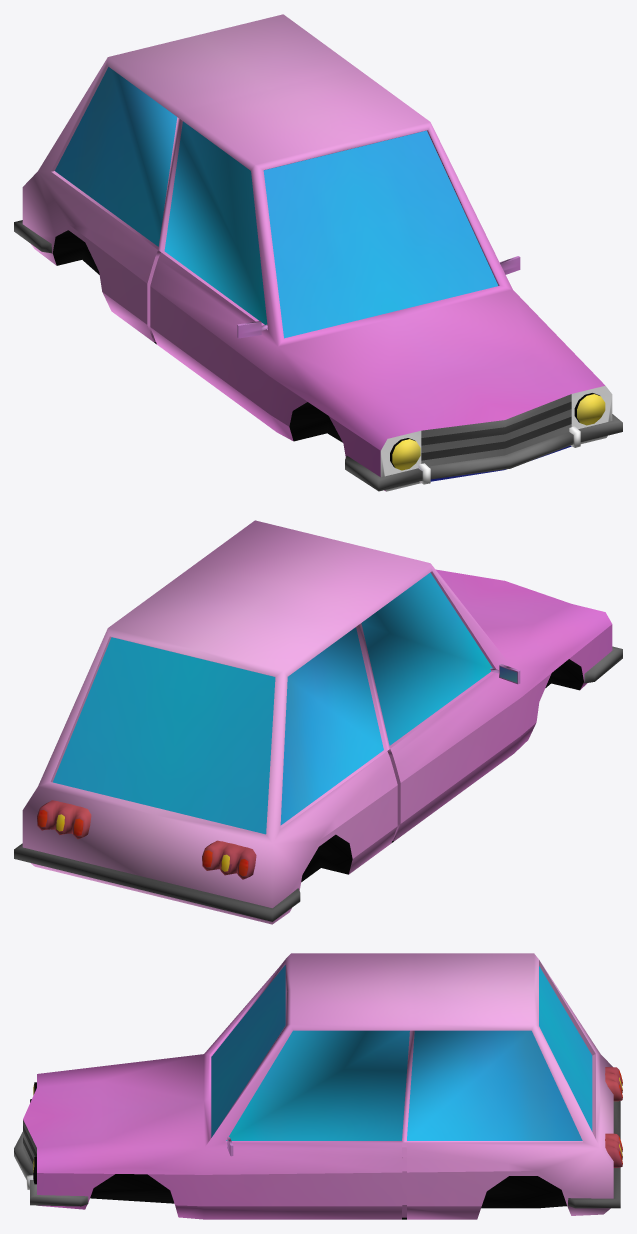
File: Car_6.fbx
The picture shows the model from 3 angles, top to bottom: view 1: azimuth 30°, elevation 25°; view 2: azimuth 150°, elevation 25°; view 3: azimuth 270°, elevation 25°; orthographic projection. The views are drawn at different scales.
Parts seen in each view (by area): view 1: Car_6; view 2: Car_6; view 3: Car_6.
Boxes of the visible parts, x1,y1,x2,y2 form: Car_6: [14, 14, 622, 491]; Car_6: [14, 520, 622, 924]; Car_6: [14, 953, 622, 1219].
Bounding box in the file's own units: 249 × 187 × 563.
1 material, 1 textured.
